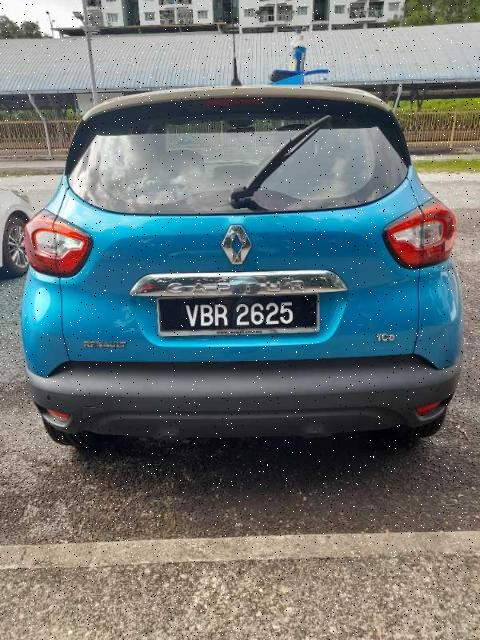License_Plate: (157, 293, 321, 337)
car: (20, 84, 464, 451)
